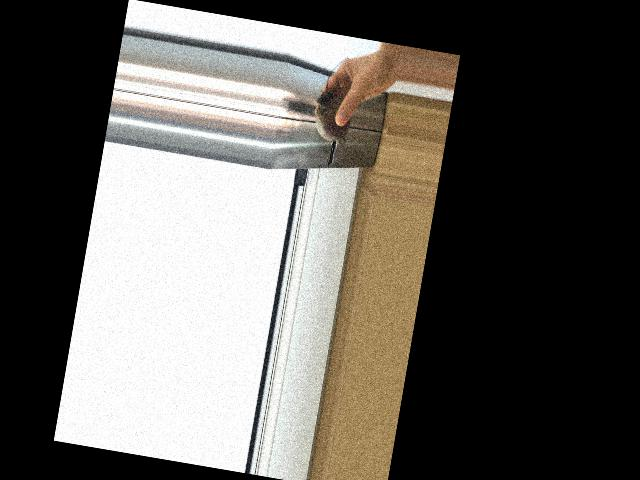beet: (309, 54, 361, 151)
